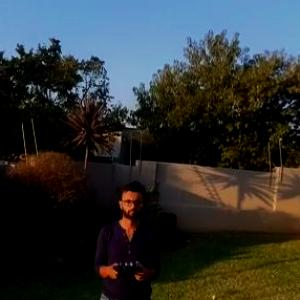follow: (89, 175, 163, 299)
